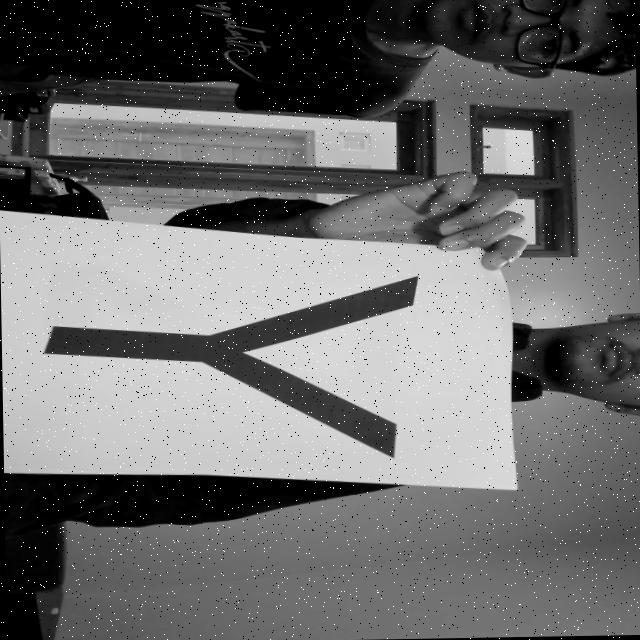y: (22, 258, 438, 473)
